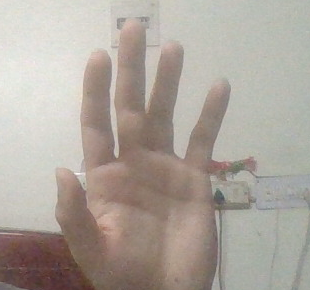move: (40, 15, 254, 290)
